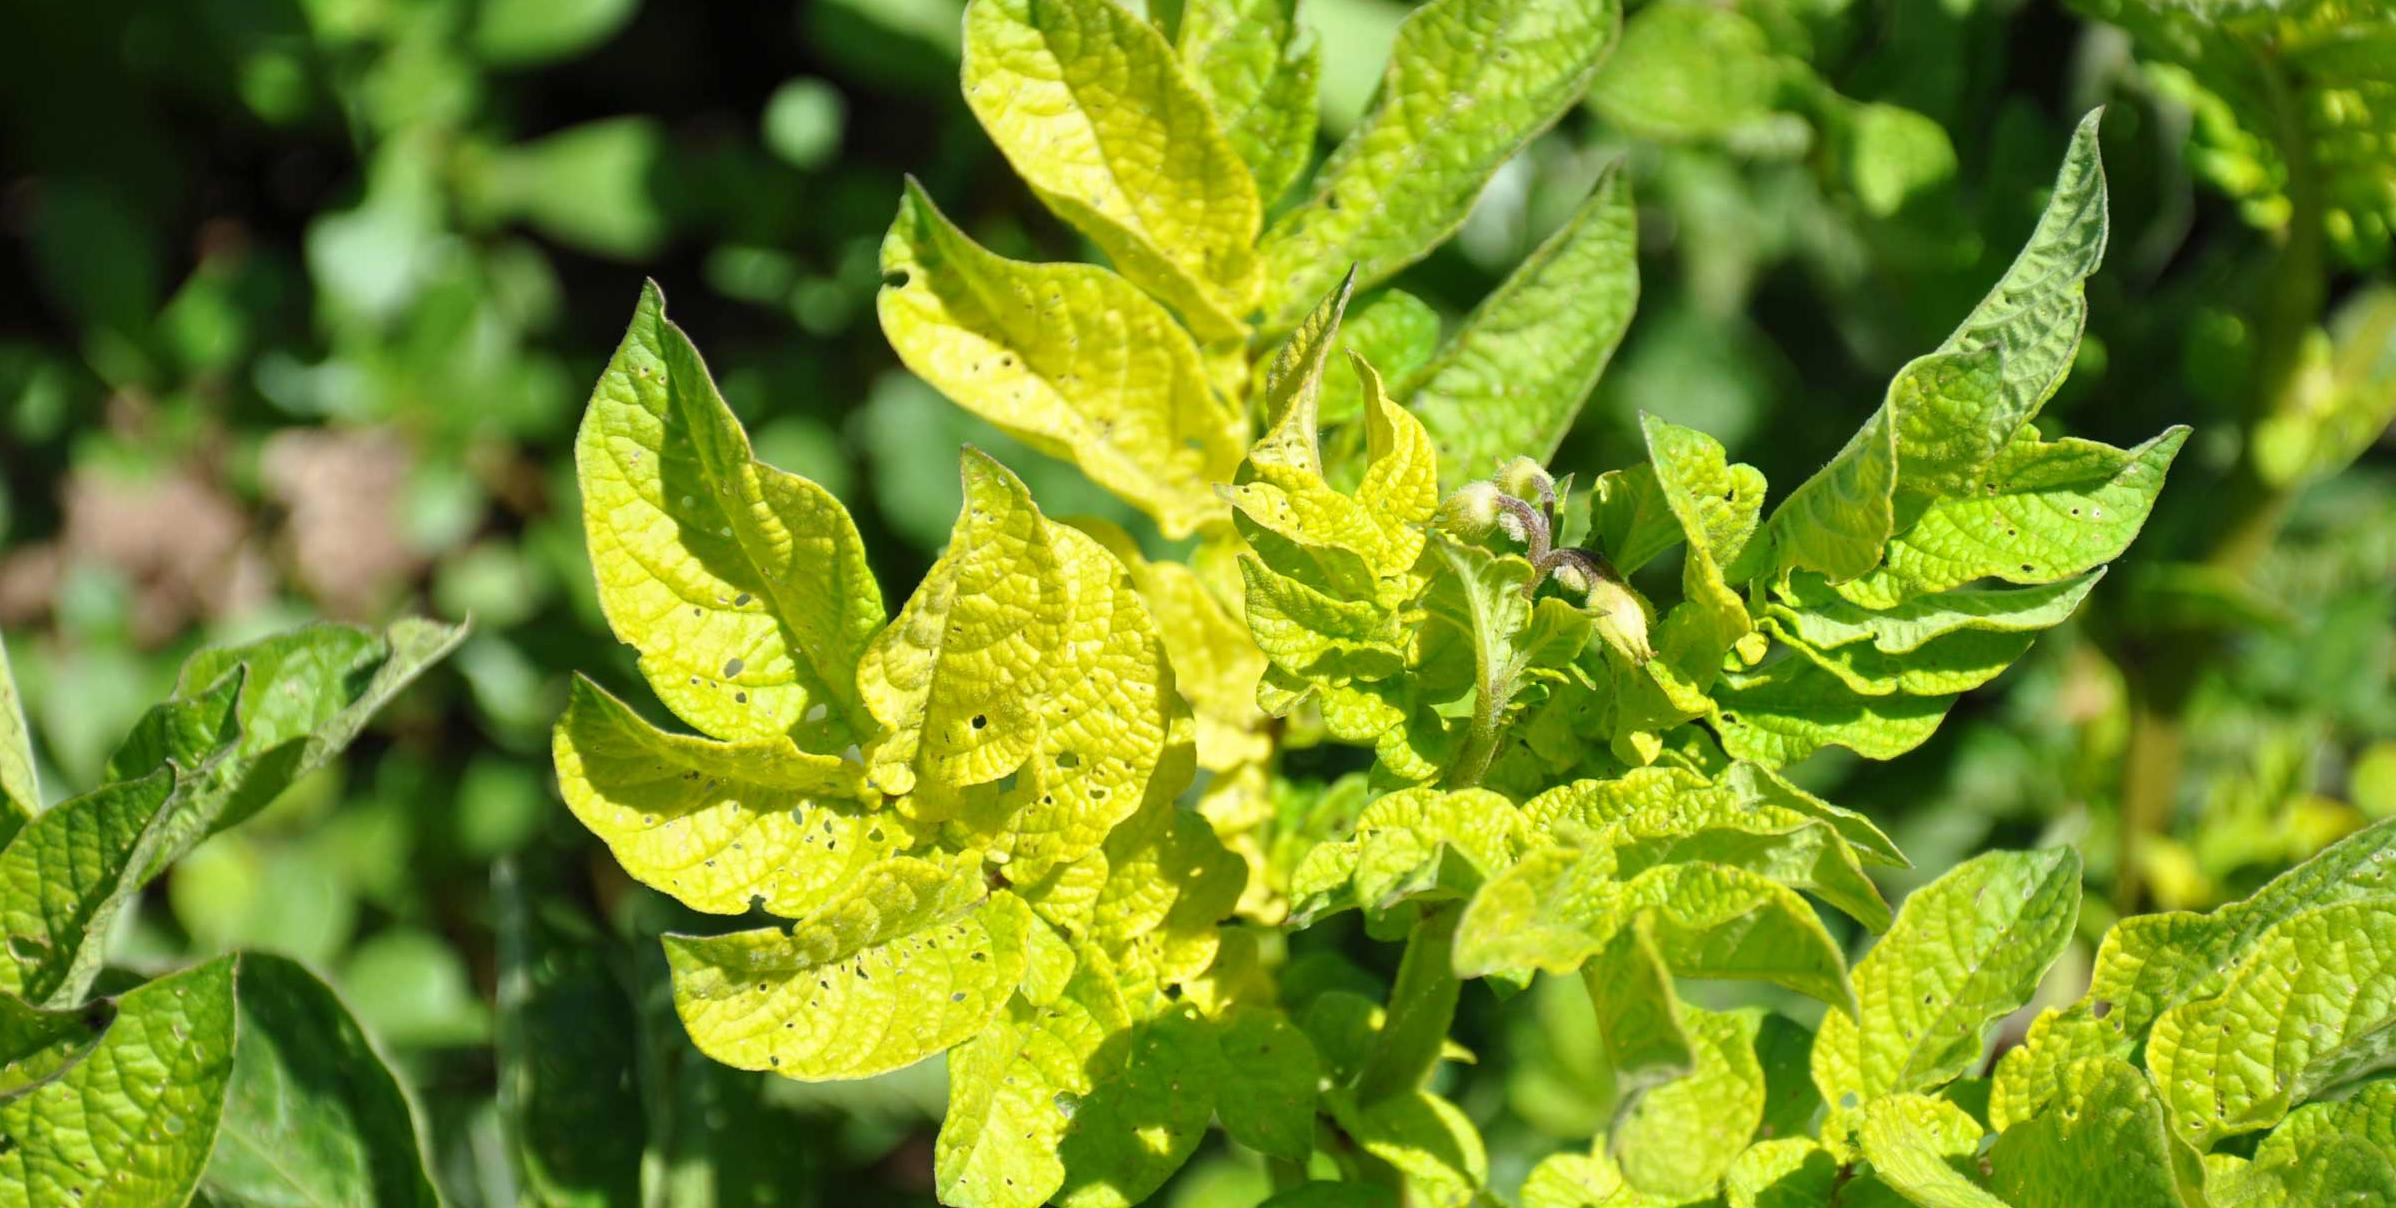Tomato leaf yellow virus: (501, 300, 909, 716), (1442, 739, 1921, 1061), (1771, 782, 2099, 1208), (854, 197, 1231, 563), (945, 0, 1295, 330), (1809, 379, 2211, 652), (1302, 0, 1666, 286), (872, 420, 1082, 843), (2111, 874, 2396, 1177), (0, 904, 267, 1208)
